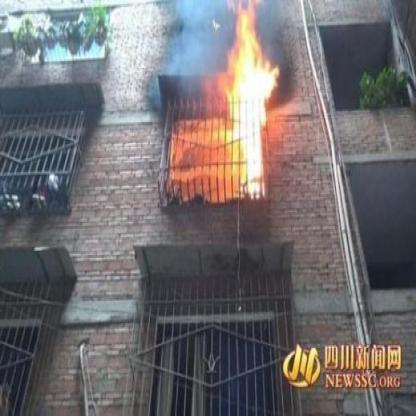Fire: (162, 0, 283, 205)
